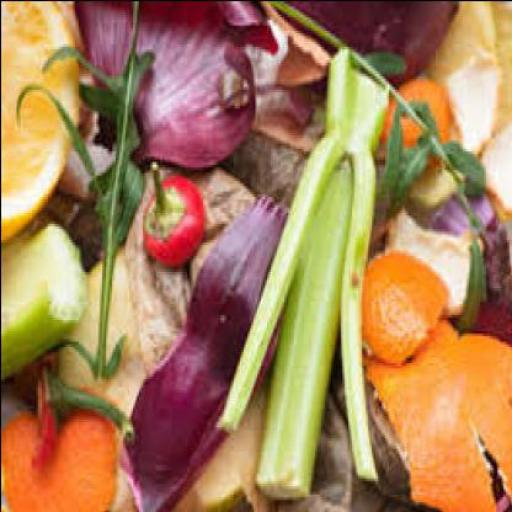biodegradable: (1, 1, 511, 511), (213, 41, 377, 496), (114, 187, 287, 510), (10, 158, 186, 424), (69, 1, 276, 164), (357, 314, 509, 509), (360, 314, 510, 509), (0, 0, 80, 236), (256, 0, 454, 84), (9, 75, 103, 250), (406, 49, 500, 206), (1, 213, 86, 381), (172, 376, 276, 510), (1, 401, 111, 510), (333, 360, 405, 510), (270, 381, 350, 509), (382, 206, 480, 304), (360, 244, 438, 364), (37, 359, 132, 437), (114, 0, 152, 177), (380, 72, 448, 164), (243, 8, 326, 83), (143, 152, 200, 260), (246, 80, 330, 153), (464, 201, 510, 332), (226, 132, 306, 200), (194, 161, 261, 233), (39, 38, 116, 92), (477, 110, 510, 220), (388, 134, 428, 214), (54, 139, 113, 193), (430, 179, 491, 231), (112, 144, 138, 262), (107, 434, 147, 510), (452, 228, 481, 330), (29, 362, 55, 464), (436, 134, 485, 188), (374, 102, 401, 196), (214, 46, 250, 110), (269, 78, 314, 120), (76, 78, 120, 120), (353, 48, 409, 75), (402, 91, 434, 134), (64, 335, 91, 378), (102, 324, 124, 370)
